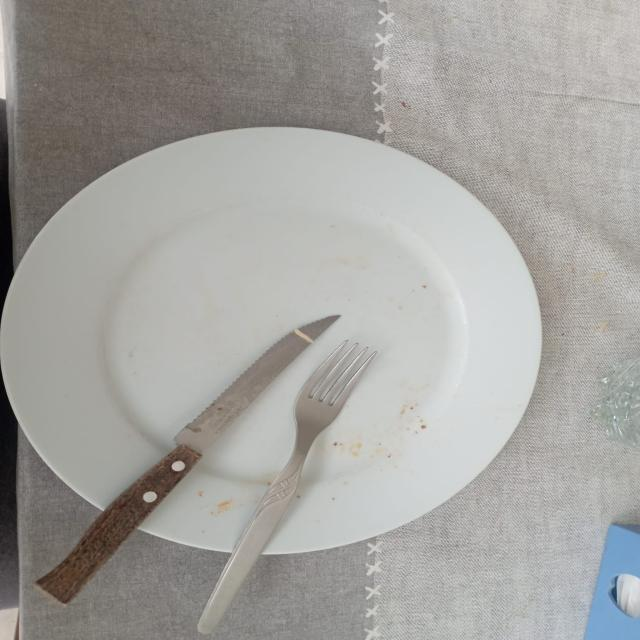fork: (198, 340, 376, 632)
knife: (36, 316, 339, 604)
plate: (0, 128, 541, 554)
